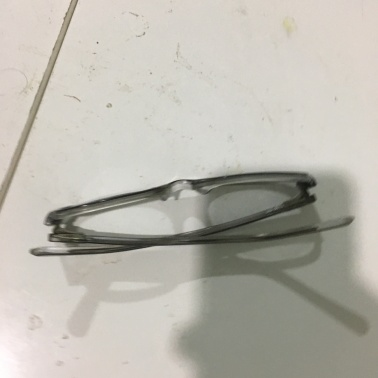glasses: (43, 179, 327, 252)
